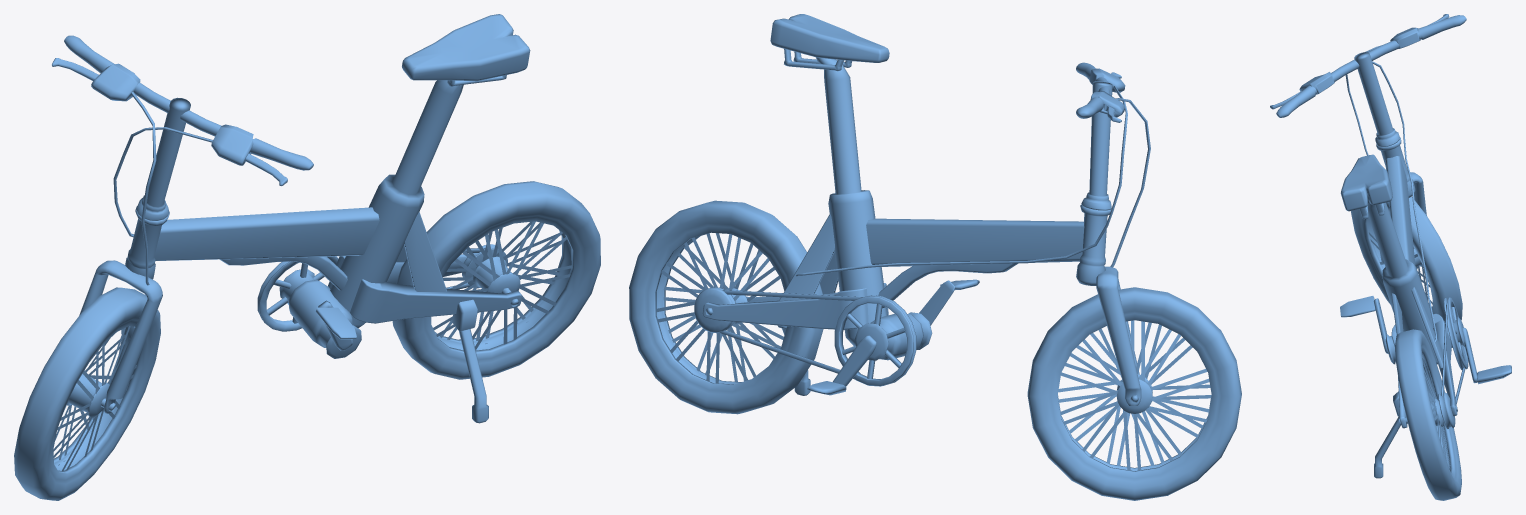
The model's file is bike.fbx.
The picture shows the model from 3 angles, left to right: view 1: azimuth 30°, elevation 25°; view 2: azimuth 150°, elevation 25°; view 3: azimuth 270°, elevation 25°; orthographic projection. The views are drawn at different scales.
Visible parts, largest first — view 1: polySurface274; view 2: polySurface274; view 3: polySurface274.
Boxes of the visible parts, bbox=[...] form: polySurface274: bbox=[14, 14, 600, 500]; polySurface274: bbox=[629, 14, 1241, 500]; polySurface274: bbox=[1270, 14, 1511, 500].
Size of the model in its own units: 2.22 by 1.49 by 0.9937.
